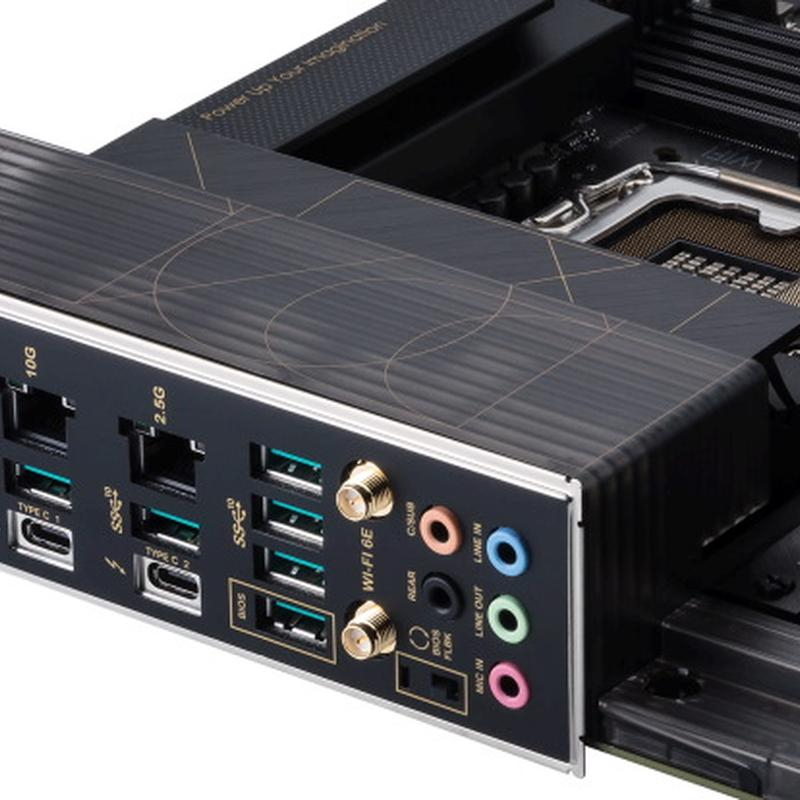AUDIO: (469, 515, 542, 575)
AUDIO_INPUT: (473, 662, 537, 720)
AUDIO_OUTPUT: (473, 589, 540, 651)
ETHERNET: (100, 393, 215, 497), (0, 380, 86, 453)
USB: (238, 427, 339, 492), (115, 500, 209, 552), (0, 455, 89, 509), (250, 543, 337, 596), (249, 497, 340, 537), (245, 602, 330, 643)
USBC: (0, 507, 84, 576), (121, 558, 207, 610)
